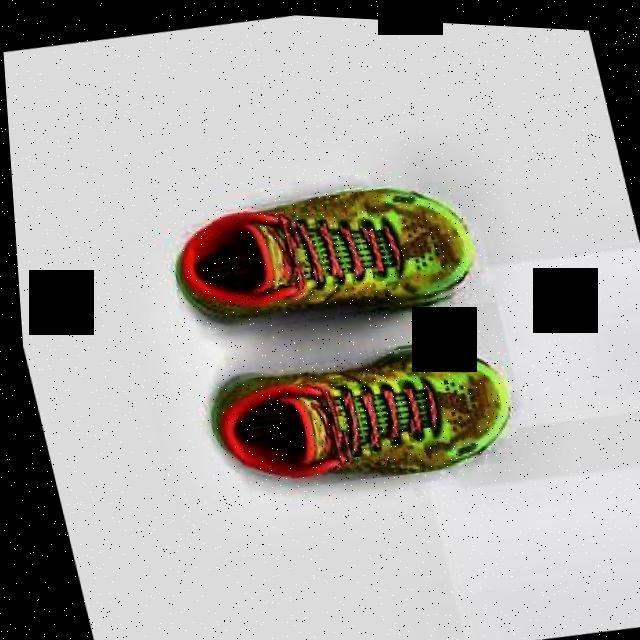shoe: (187, 314, 520, 507), (153, 161, 485, 348)
